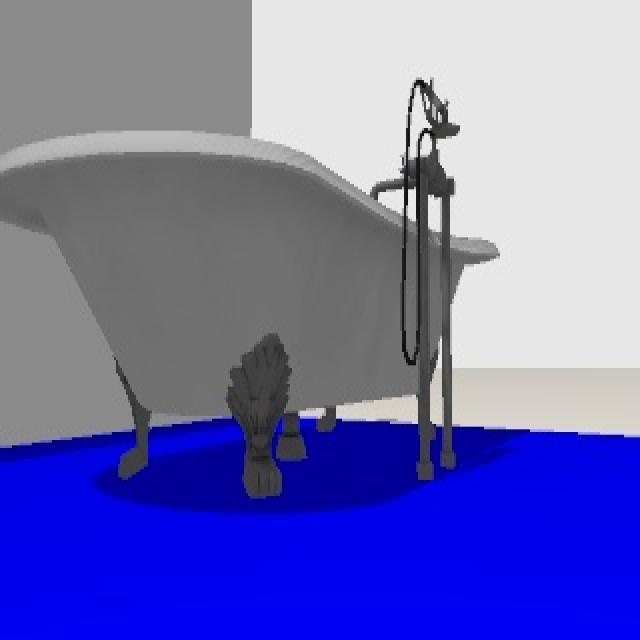bathtub: (2, 74, 496, 503)
